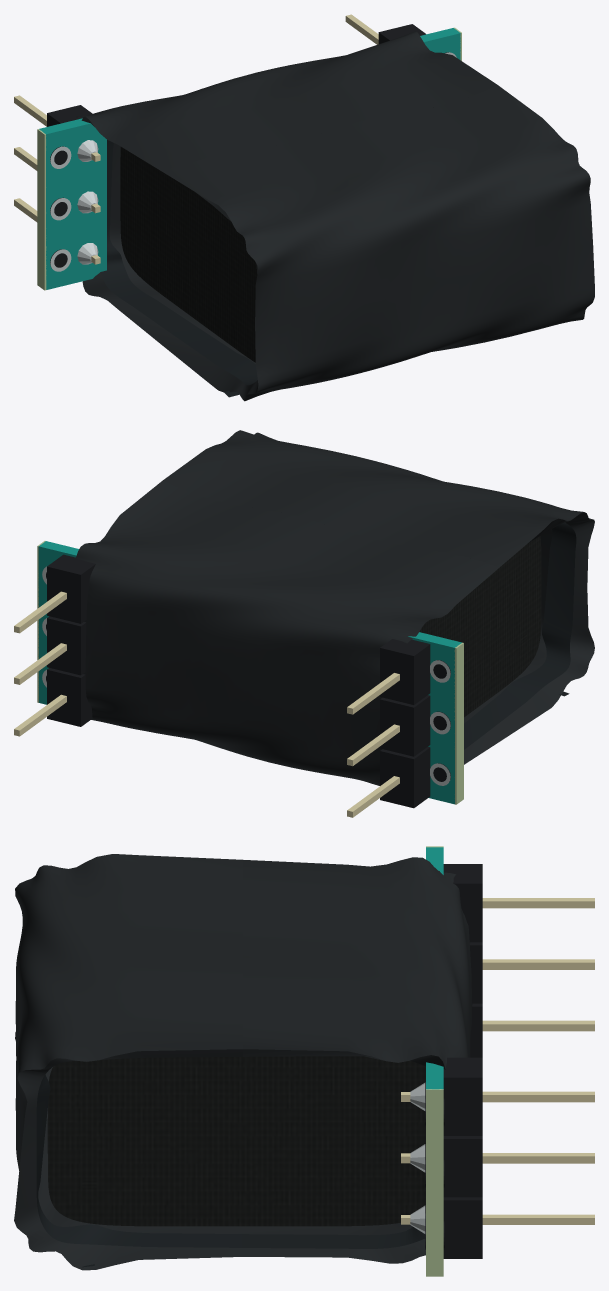
The model's file is BGO6x6x10SiPM6x6.glb.
3 renders of one model, top to bottom at view 1: azimuth 30°, elevation 25°; view 2: azimuth 150°, elevation 25°; view 3: azimuth 270°, elevation 25°, orthographic. The views are drawn at different scales.
Visible parts, largest first — view 1: Outer vinyl tape, Woven inner layer, Green PCB, Inner folded tape, Silver solder, Gold toned pins, Black headers, Fiberglass edge; view 2: Outer vinyl tape, Black headers, Woven inner layer, Inner folded tape, Green PCB, Gold toned pins, Fiberglass edge, Silver solder; view 3: Outer vinyl tape, Woven inner layer, Black headers, Gold toned pins, Inner folded tape, Fiberglass edge, Silver solder, Green PCB.
Boxes of the visible parts, x1=… form: Outer vinyl tape: x1=76, y1=31, x2=594, y2=401; Woven inner layer: x1=120, y1=147, x2=257, y2=362; Green PCB: x1=39, y1=28, x2=460, y2=289; Inner folded tape: x1=100, y1=140, x2=257, y2=397; Silver solder: x1=50, y1=52, x2=456, y2=271; Gold toned pins: x1=14, y1=14, x2=378, y2=264; Black headers: x1=47, y1=24, x2=448, y2=267; Fiberglass edge: x1=37, y1=27, x2=461, y2=290; Outer vinyl tape: x1=75, y1=430, x2=594, y2=785; Black headers: x1=46, y1=554, x2=450, y2=808; Woven inner layer: x1=419, y1=536, x2=541, y2=717; Inner folded tape: x1=464, y1=523, x2=576, y2=749; Green PCB: x1=38, y1=541, x2=461, y2=804; Gold toned pins: x1=14, y1=591, x2=399, y2=817; Fiberglass edge: x1=37, y1=541, x2=463, y2=804; Silver solder: x1=42, y1=566, x2=450, y2=785; Outer vinyl tape: x1=14, y1=854, x2=472, y2=1270; Woven inner layer: x1=47, y1=1056, x2=425, y2=1226; Black headers: x1=425, y1=864, x2=482, y2=1258; Gold toned pins: x1=401, y1=898, x2=594, y2=1224; Inner folded tape: x1=36, y1=1075, x2=425, y2=1267; Fiberglass edge: x1=426, y1=846, x2=443, y2=1276; Silver solder: x1=410, y1=1082, x2=425, y2=1233; Green PCB: x1=426, y1=847, x2=443, y2=1089.
Bounding box in the file's own units: 2.47 × 1.05 × 2.48.
8 materials, 1 textured.
